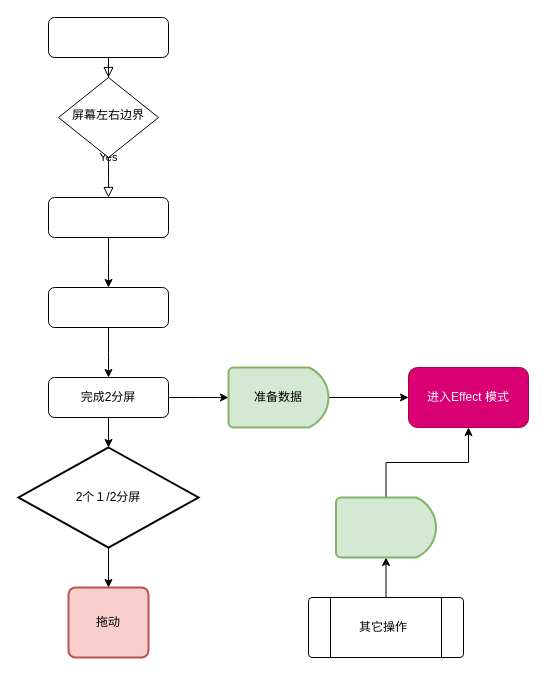
Image size: 546x676. Some labels were removed from this diagram. Each missing label, with the centre of its shape:
"拖拽窗口" goes at point (108, 37).
"模式切换" goes at point (385, 527).
"设置tile 属性" goes at point (108, 307).
"进入1/2分屏" goes at point (108, 217).
